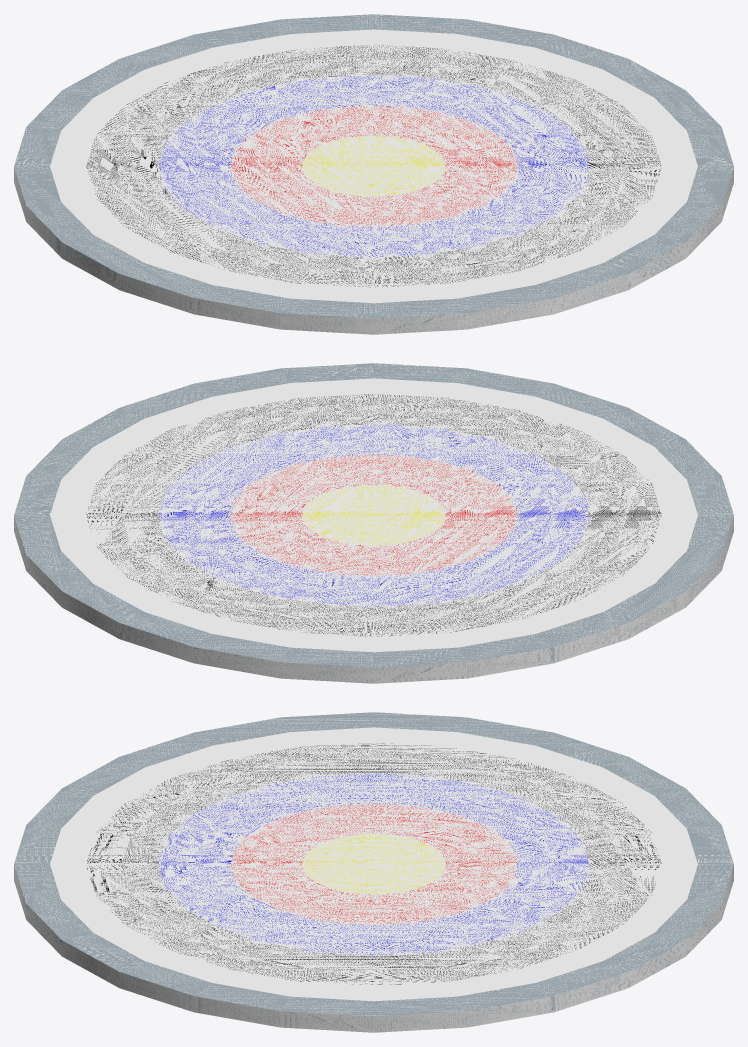
Rendered from CibleSimple.fbx.
3 renders of one model, top to bottom at view 1: azimuth 30°, elevation 25°; view 2: azimuth 150°, elevation 25°; view 3: azimuth 270°, elevation 25°, orthographic.
Parts seen in each view (by area): view 1: Model; view 2: Model; view 3: Model.
Part boxes in pixels (x1,y1,x2,y2): Model: (14, 14, 733, 334); Model: (14, 363, 733, 683); Model: (14, 712, 733, 1032).
Bounding box in the file's own units: 0.8 × 0.02 × 0.8.
